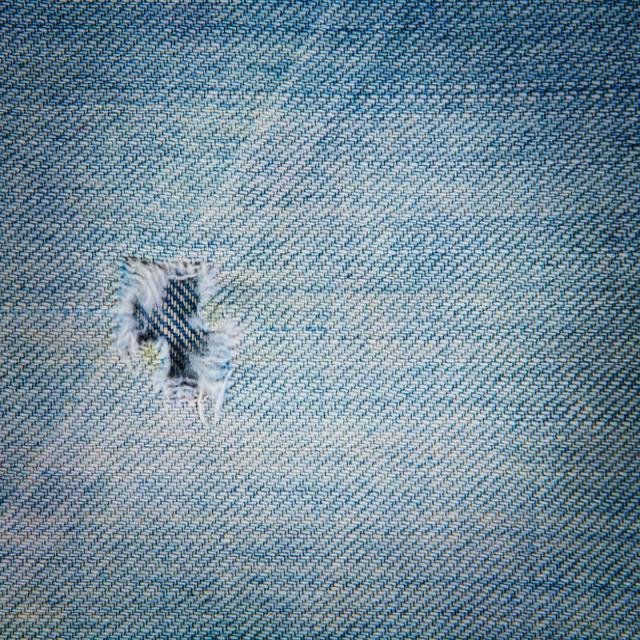Hole: (112, 258, 240, 421)
